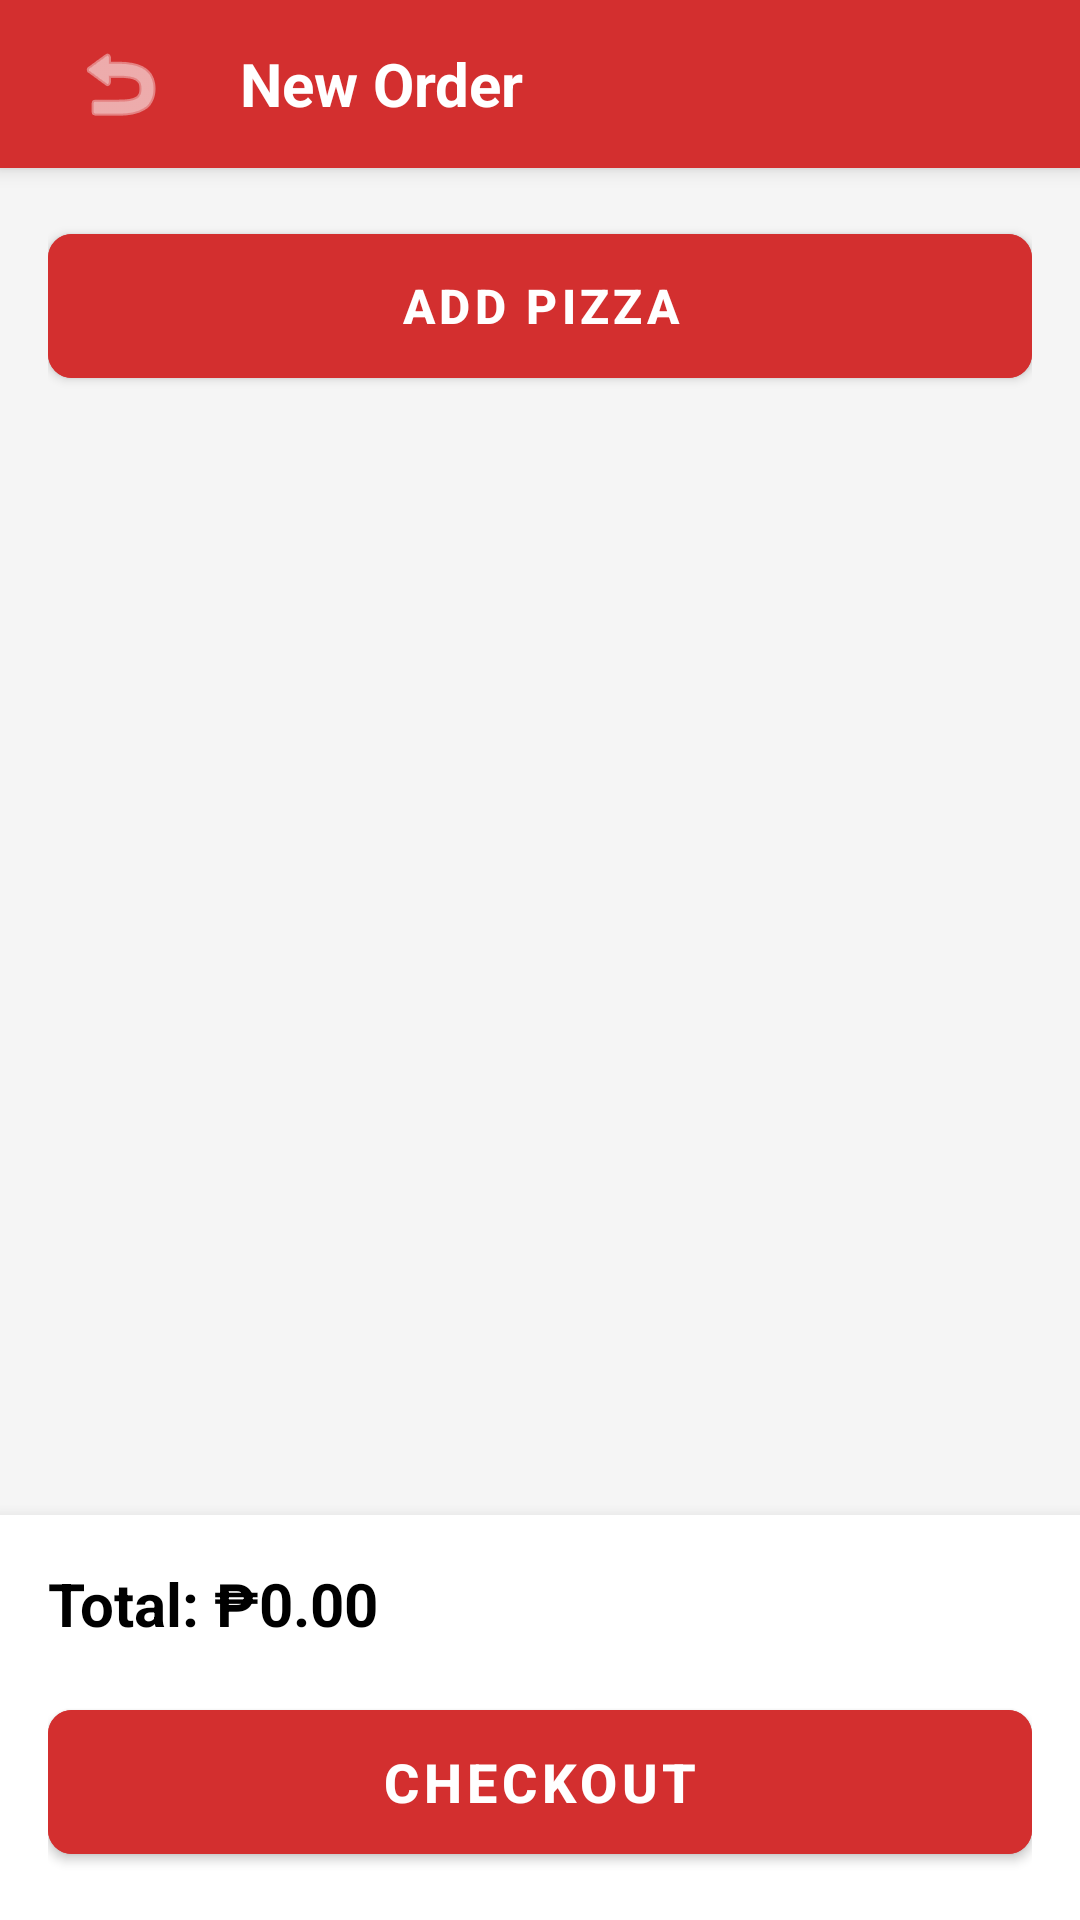

Screen size 1080 × 1920. Icon name, then its box in pixels as detection(x1, y1, x2, y2):
Back: detection(87, 53, 156, 116)
